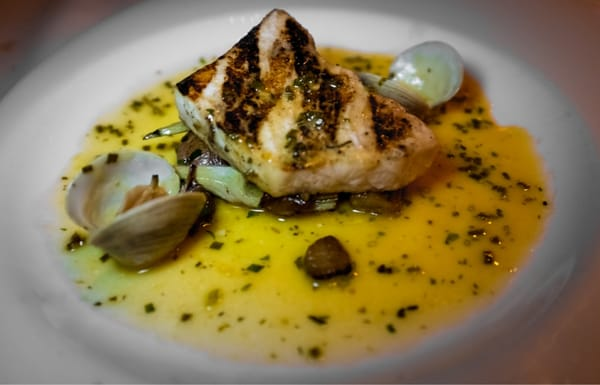sandwich: (43, 3, 587, 370)
